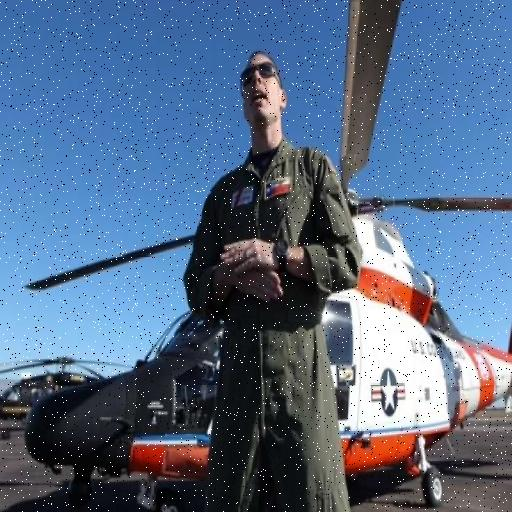helicopter: (26, 1, 512, 502)
